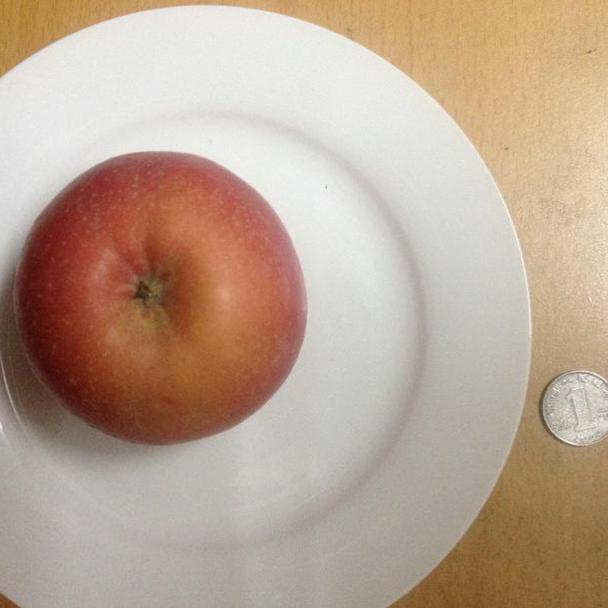apple: (13, 153, 307, 445)
